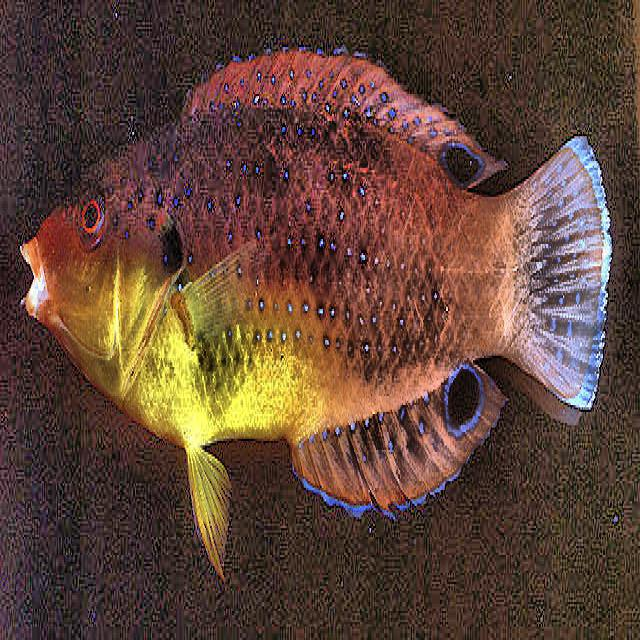fish: (19, 46, 614, 581)
